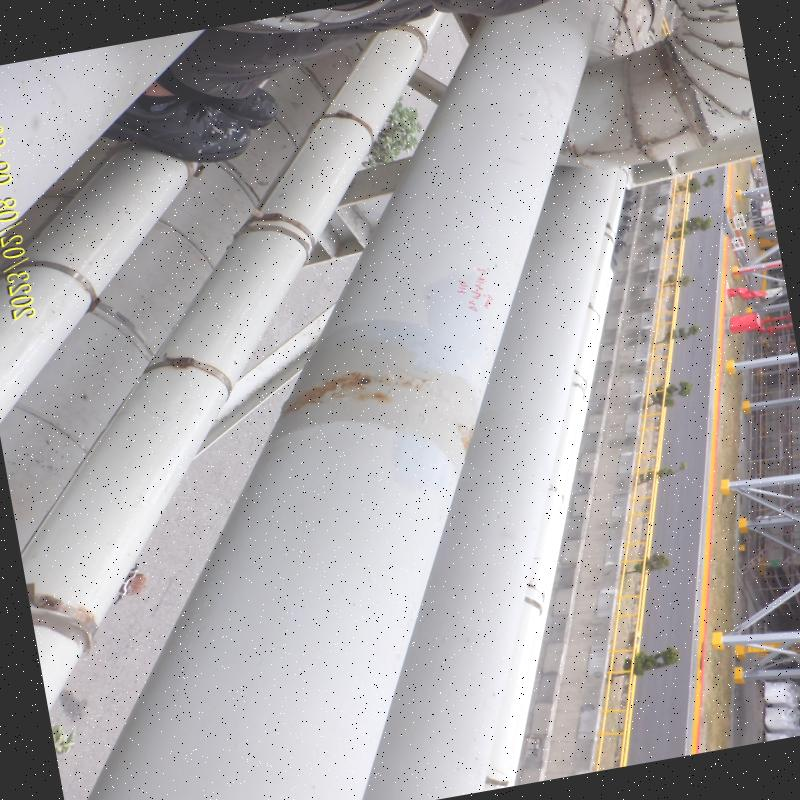corrosion: (286, 362, 392, 404)
